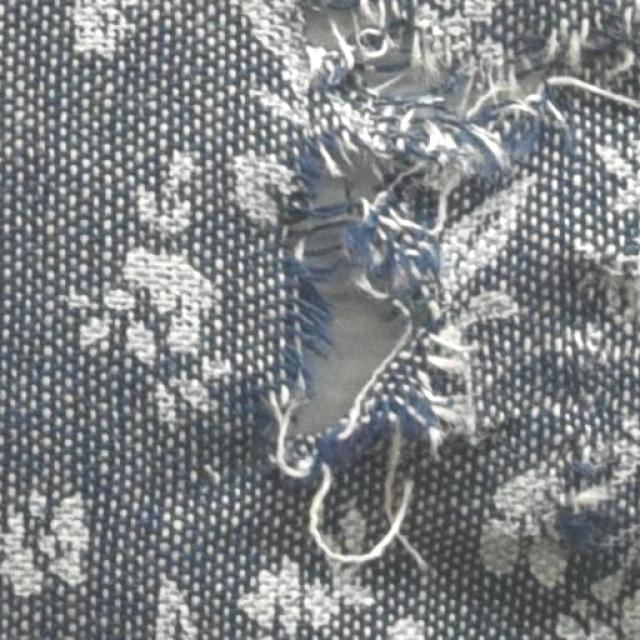Hole: (299, 278, 393, 433), (384, 56, 518, 111), (311, 15, 353, 46)
Snag: (292, 46, 577, 168), (277, 124, 369, 409), (358, 159, 455, 298), (533, 443, 626, 527), (586, 244, 637, 278)
